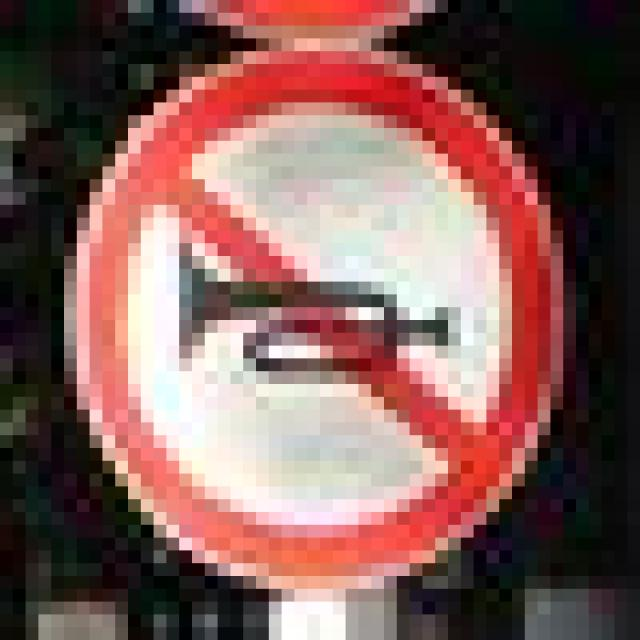HORN_PROHIBITED: (52, 26, 550, 576)
